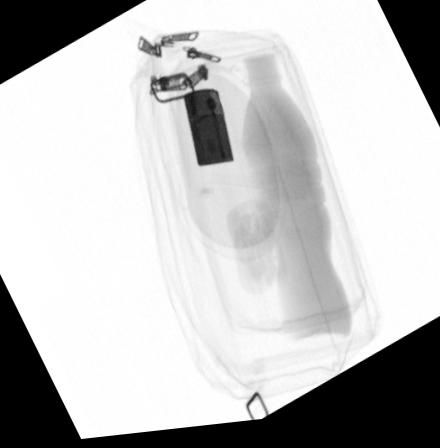Lighter: (181, 93, 234, 172)
